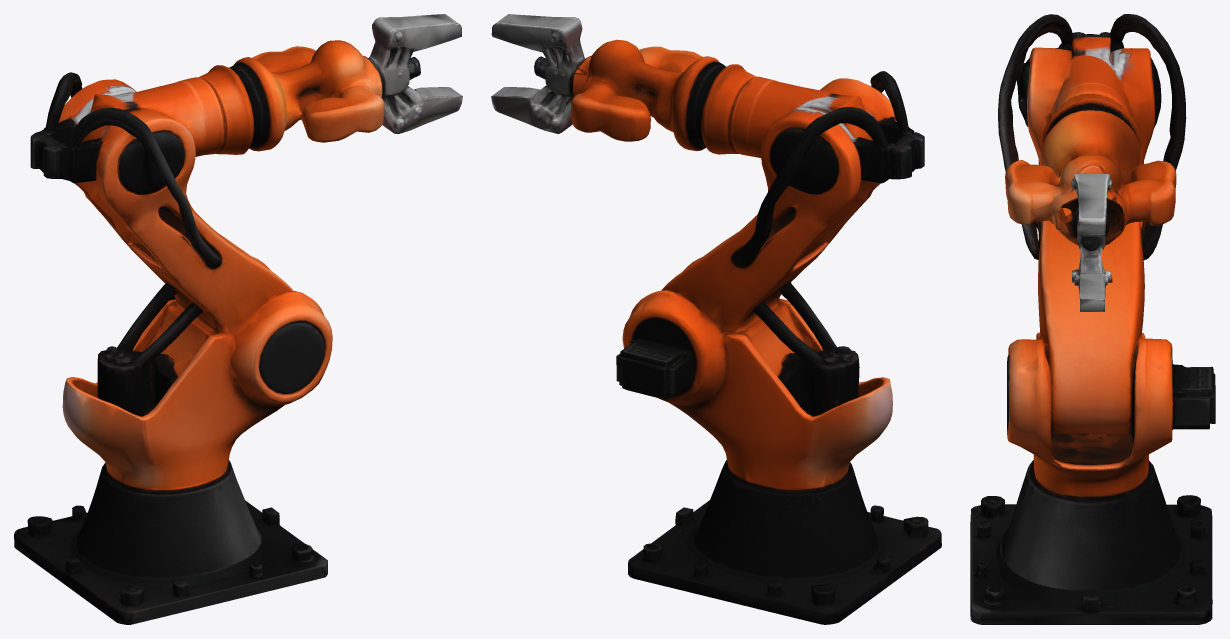
Rendered from robotarm.glb.
3 views of the same model, side by side, from view 1: azimuth 30°, elevation 25°; view 2: azimuth 150°, elevation 25°; view 3: azimuth 270°, elevation 25° (orthographic). The views are drawn at different scales.
Parts seen in each view (by area): view 1: world; view 2: world; view 3: world.
Part boxes in pixels (<box>): world: <box>14,14,462,624</box>; world: <box>491,14,941,624</box>; world: <box>970,14,1215,624</box>.
Bounding box in the file's own units: 0.8992 × 0.9981 × 0.4316.
Materials: 1 (1 with a texture image).
